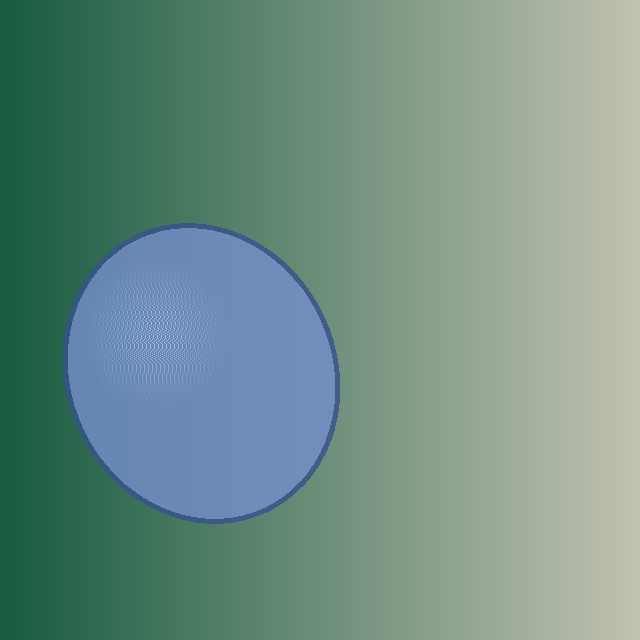lens: (65, 226, 337, 520)
